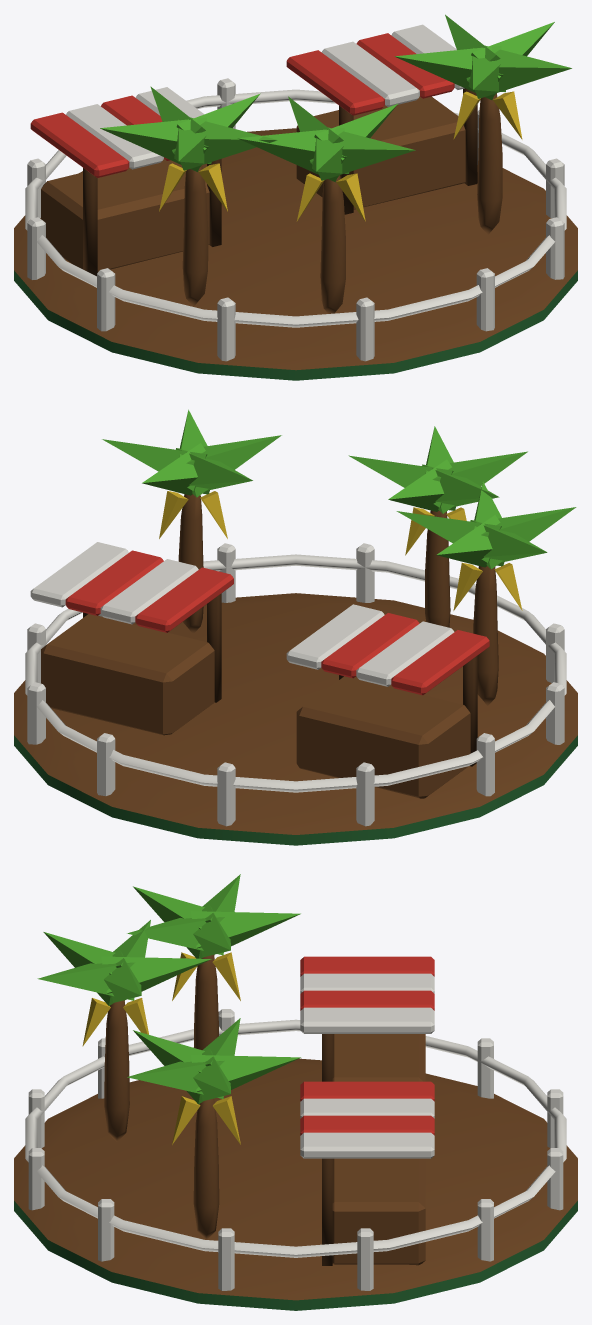
3 views of the same model, one above another, from view 1: azimuth 30°, elevation 25°; view 2: azimuth 150°, elevation 25°; view 3: azimuth 270°, elevation 25° (orthographic).
Parts seen in each view (by area): view 1: fazenda_0_base, fazenda_1_torreta; view 2: fazenda_0_base, fazenda_1_torreta; view 3: fazenda_0_base, fazenda_1_torreta.
Part boxes in pixels (<box>): fazenda_0_base: <box>14,24,577,380</box>; fazenda_1_torreta: <box>100,14,571,313</box>; fazenda_0_base: <box>14,542,577,845</box>; fazenda_1_torreta: <box>102,409,576,705</box>; fazenda_0_base: <box>14,956,577,1310</box>; fazenda_1_torreta: <box>37,874,300,1239</box>.
Size of the model in its own units: 1.28 by 0.5151 by 1.26.
